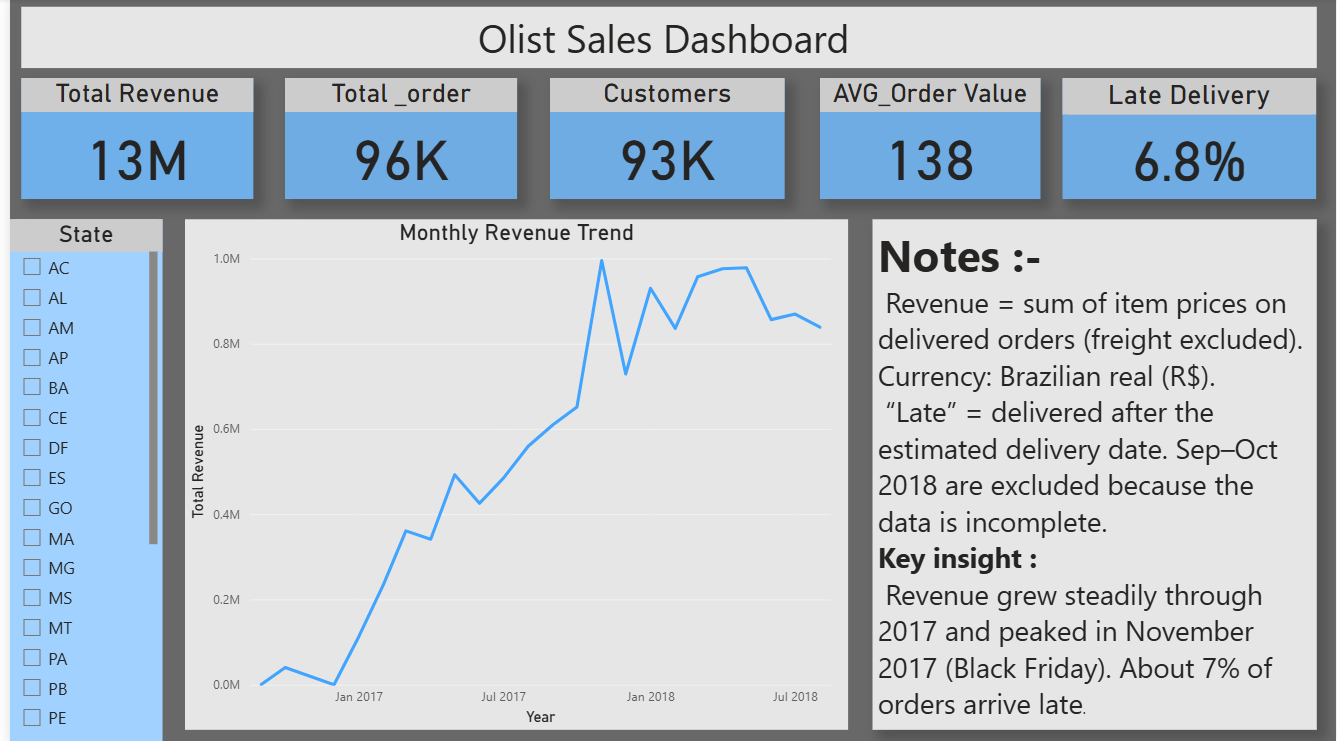

The dashboard page shown, as its layout file describes it:
{"tool":"powerbi","page":{"name":"Executive Summary","canvas":[1280,720],"ordinal":0},"visuals":[{"type":"card","title":"Total Revenue","fields":{"Values":["Sum(orders_clean.revenue)"]},"box":[10.3,77.3,224.1,117.2],"z":0},{"type":"card","title":"Total _order","fields":{"Values":["orders_clean.Orders"]},"box":[265.3,77.3,224.1,117.2],"z":1000},{"type":"card","title":"Customers","fields":{"Values":["orders_clean.Customers"]},"box":[521.5,77.3,226.6,117.2],"z":2000},{"type":"card","title":"AVG_Order Value","fields":{"Values":["orders_clean.Avg Order Value"]},"box":[781.6,77.3,212.5,117.2],"z":3000},{"type":"card","title":"Late Delivery","fields":{"Values":["orders_clean.Late Delivery %"]},"box":[1016,77.3,244.7,117.2],"z":4000},{"type":"lineChart","title":"Monthly Revenue Trend","fields":{"Y":["orders_clean.Total Revenue"],"Category":["orders_clean.order_month.Variation.Date Hierarchy.Year","orders_clean.order_month.Variation.Date Hierarchy.Month","orders_clean.order_month.Variation.Date Hierarchy.Day"]},"box":[168.7,213.8,640,493.2],"z":5000},{"type":"slicer","title":" State","fields":{"Values":["orders_clean.customer_state"]},"box":[0,213.5,147.2,506.7],"z":6000},{"type":"textbox","box":[831.9,213.8,428.8,493.2],"z":7000},{"type":"textbox","box":[10.3,9,1250.4,59.2],"z":8000}]}

Visuals, with their boxes in screenshot pixels (x1, y1, x2, y2), scaled from the page's 1280x720 canvas onto the 1337x741 screenshot:
"Total Revenue" card: 11,80,245,200
"Total _order" card: 277,80,511,200
"Customers" card: 545,80,781,200
"AVG_Order Value" card: 816,80,1038,200
"Late Delivery" card: 1061,80,1317,200
"Monthly Revenue Trend" lineChart: 176,220,845,728
" State" slicer: 0,220,154,740
textbox: 869,220,1317,728
textbox: 11,9,1317,70
